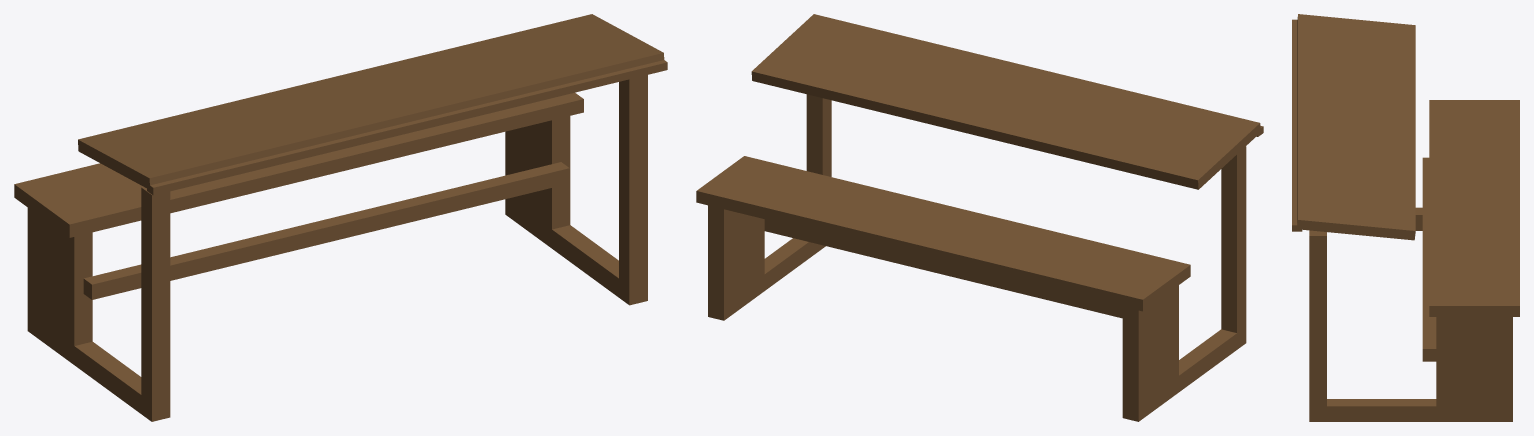
The model's file is Prop_YTM_SchoolBench_LOD1.glb.
The picture shows the model from 3 angles, left to right: view 1: azimuth 30°, elevation 25°; view 2: azimuth 150°, elevation 25°; view 3: azimuth 270°, elevation 25°; orthographic projection. The views are drawn at different scales.
Visible parts, largest first — view 1: Prop_YTM_SchoolBench; view 2: Prop_YTM_SchoolBench; view 3: Prop_YTM_SchoolBench.
Boxes of the visible parts, x1,y1,x2,y2 form: Prop_YTM_SchoolBench: (14, 14, 667, 421); Prop_YTM_SchoolBench: (696, 14, 1263, 421); Prop_YTM_SchoolBench: (1292, 14, 1519, 421).
Size of the model in its own units: 1.4 by 0.6527 by 0.655.
